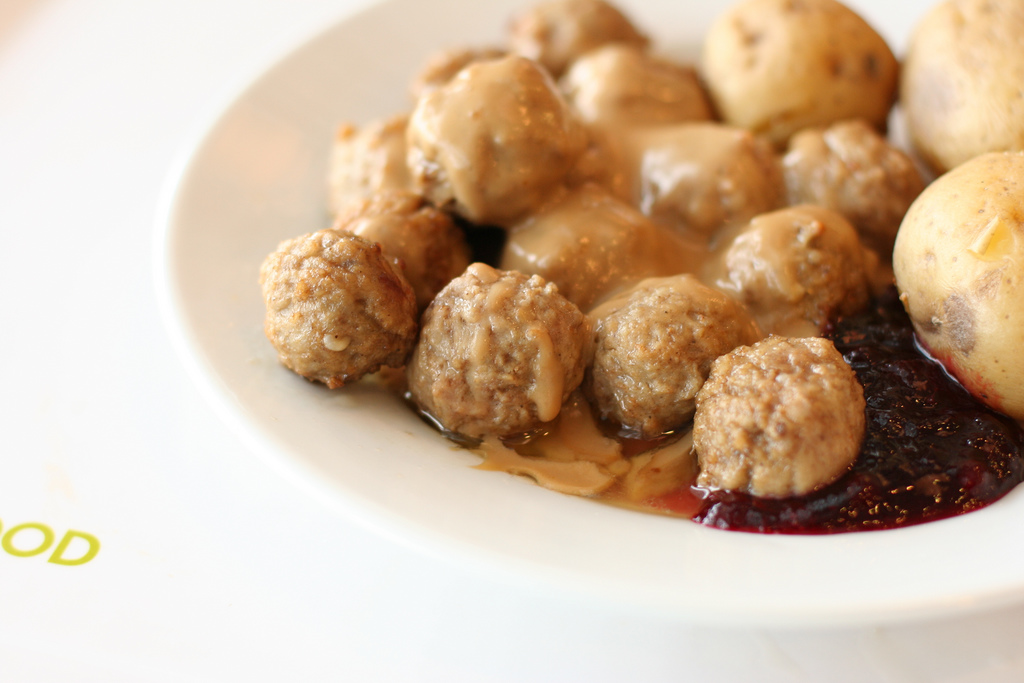meatballs: (406, 66, 858, 451)
